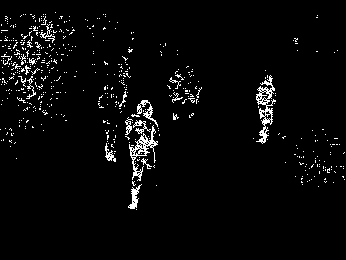person: (124, 99, 159, 213), (98, 85, 122, 162), (256, 75, 274, 145)
